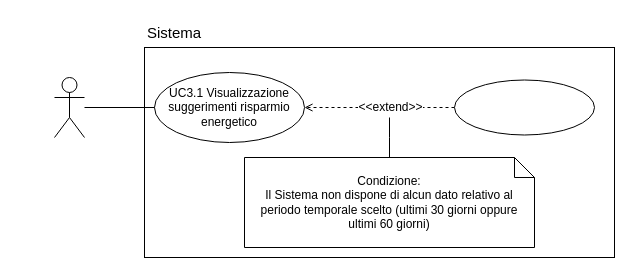
Some shapes in this 632 by 275 pixel diagram are drawn without their labels. Each missing label, with the centre of its shape:
Operatore Sanitario: point (69, 107)
UC7 Errore dati insufficienti: point (524, 107)
